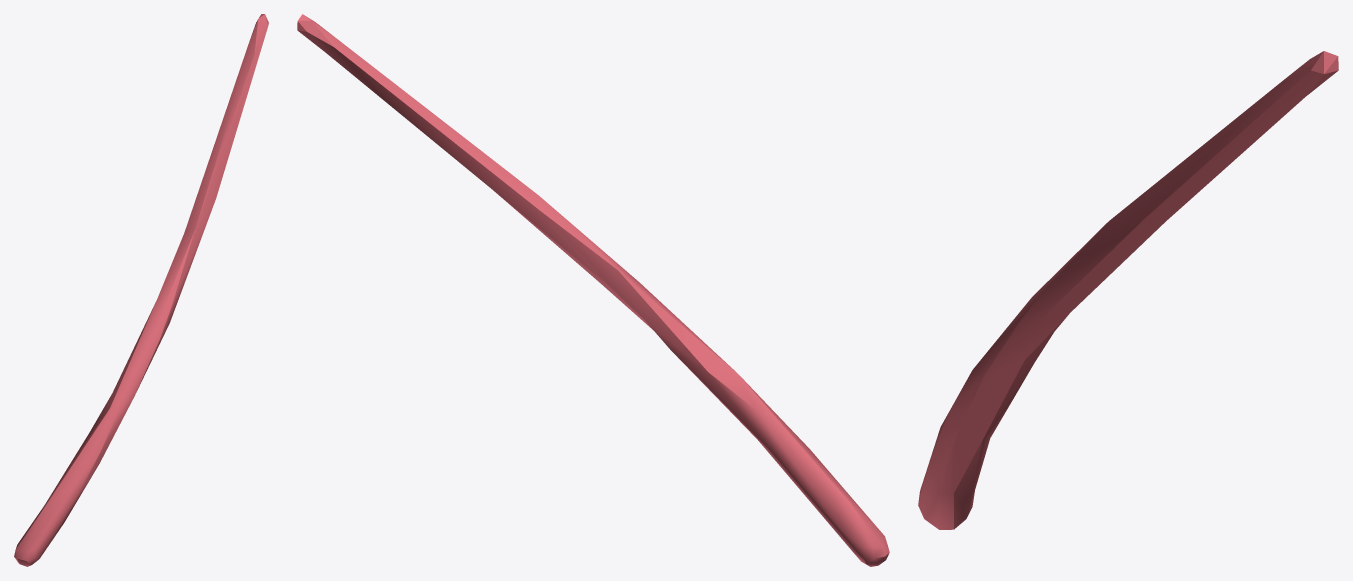
Rendered from fma76062_fj5043.glb.
3 renders of one model, left to right at view 1: azimuth 30°, elevation 25°; view 2: azimuth 150°, elevation 25°; view 3: azimuth 270°, elevation 25°, orthographic. The views are drawn at different scales.
Parts seen in each view (by area): view 1: FMA76062_FJ5043; view 2: FMA76062_FJ5043; view 3: FMA76062_FJ5043.
Part boxes in pixels (left/top/right/bottom): FMA76062_FJ5043: left=14, top=14, right=268, bottom=566; FMA76062_FJ5043: left=297, top=14, right=889, bottom=566; FMA76062_FJ5043: left=918, top=51, right=1338, bottom=529.
Bounding box in the file's own units: 0.00564 × 0.00621 × 0.00295.
